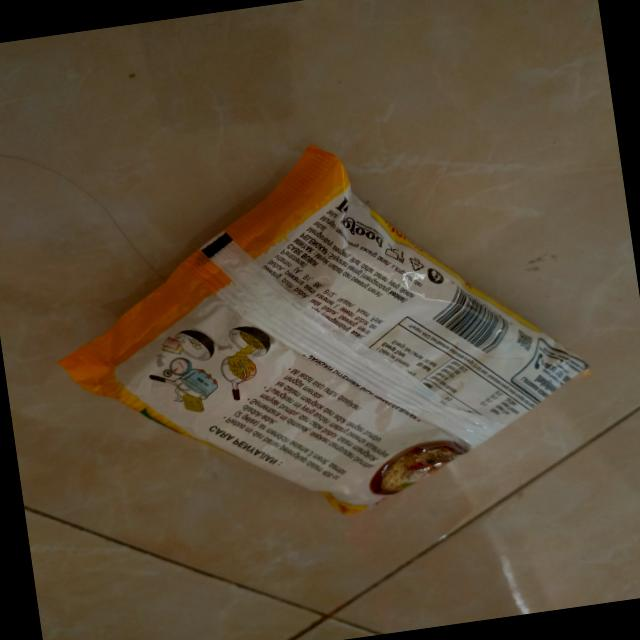indomie-mie-kocok-bandung: (32, 110, 608, 556)
